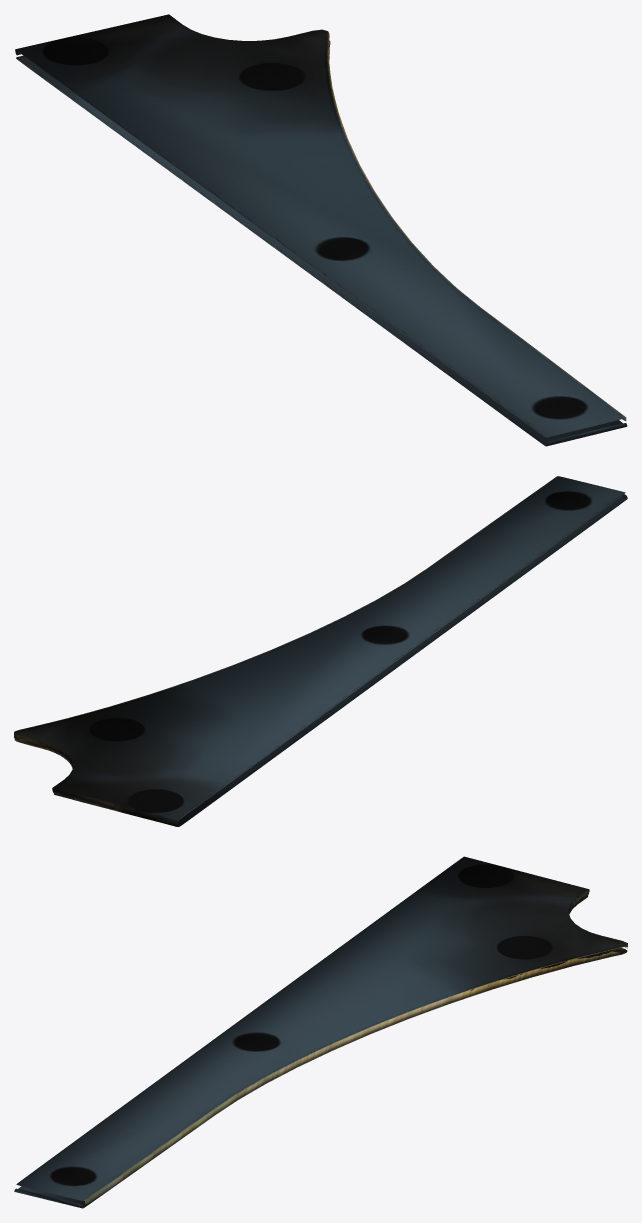
File: plastic_blue.fbx
3 views of the same model, one above another, from view 1: azimuth 30°, elevation 25°; view 2: azimuth 150°, elevation 25°; view 3: azimuth 330°, elevation 25° (orthographic). The views are drawn at different scales.
Parts seen in each view (by area): view 1: plastic_blue; view 2: plastic_blue; view 3: plastic_blue.
Boxes of the visible parts, x1=… form: plastic_blue: x1=15, y1=14, x2=627, y2=446; plastic_blue: x1=14, y1=476, x2=627, y2=826; plastic_blue: x1=14, y1=856, x2=627, y2=1208.
Bounding box in the file's own units: 4.2 × 0.1244 × 15.18.
Materials: 1 (1 with a texture image).
